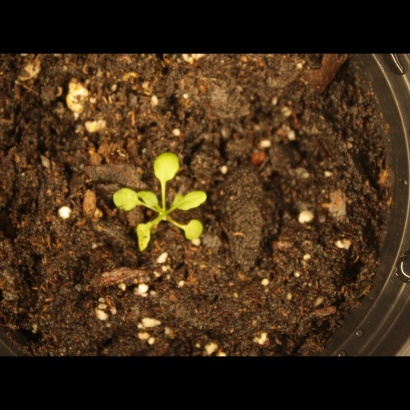leaf: (171, 188, 212, 216), (152, 150, 181, 185), (111, 185, 142, 217), (176, 219, 210, 246), (131, 222, 158, 255), (140, 189, 163, 212)
